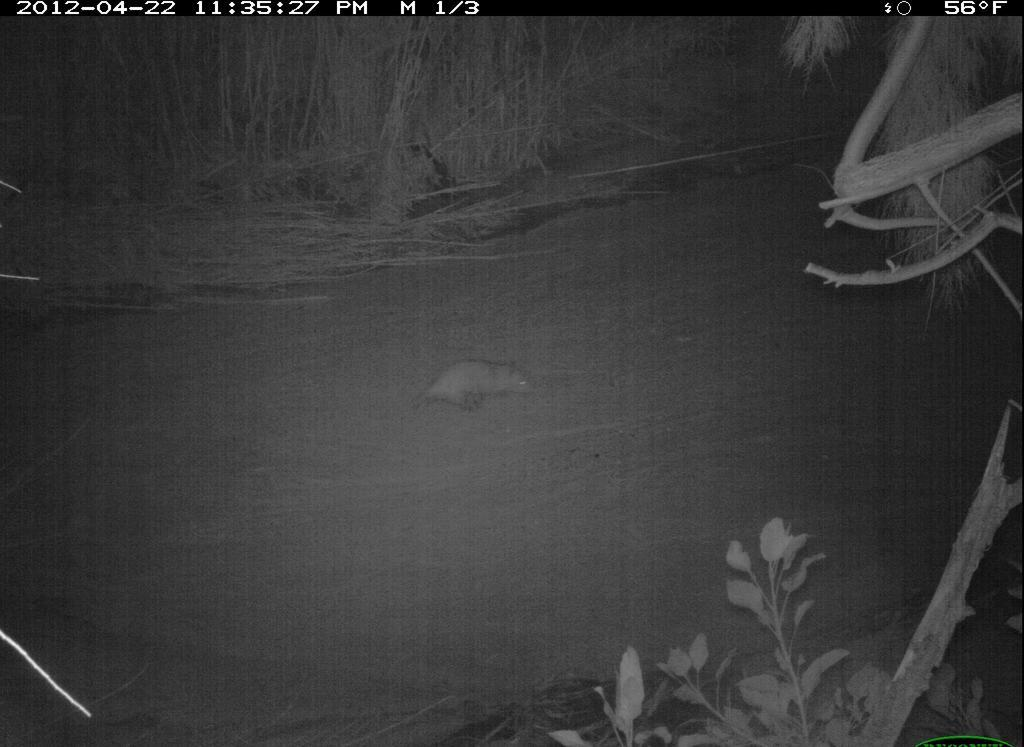opossum: (404, 340, 555, 424)
